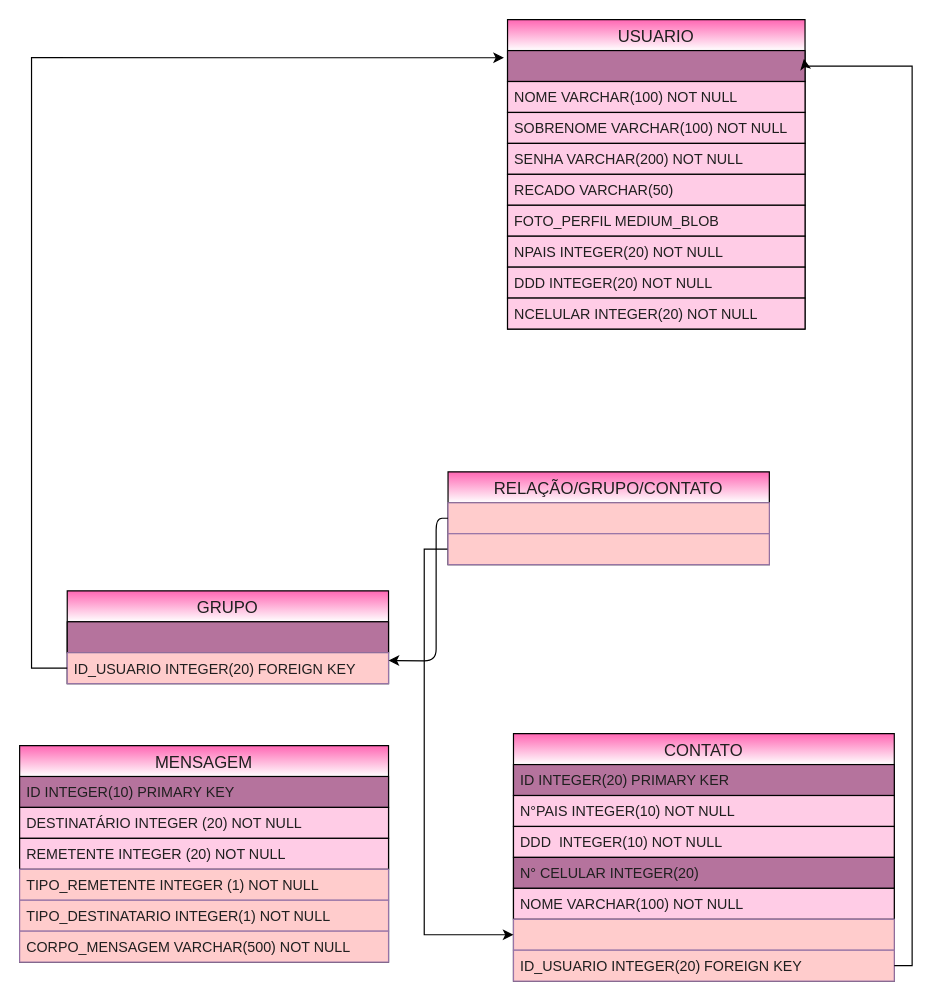
Some shapes in this 932 by 1001 pixel diagram are drawn without their labels. Here are the shapes that lost their labels. From the top down, the centre of each, then its label:
the point at 655,65: ID INTEGER(20) PRIMARY KEY
the point at 608,518: ID_GRUPO INTEGER(20) FOREIGN KEY
the point at 608,549: ID_CONTATO INTEGER(20) FOREIGN KEY
the point at 227,637: NOME VARCHAR(100) PRIMARY KEY
the point at 703,934: NOME_GRUPO VARCHAR(100) FOREIGN KEY
